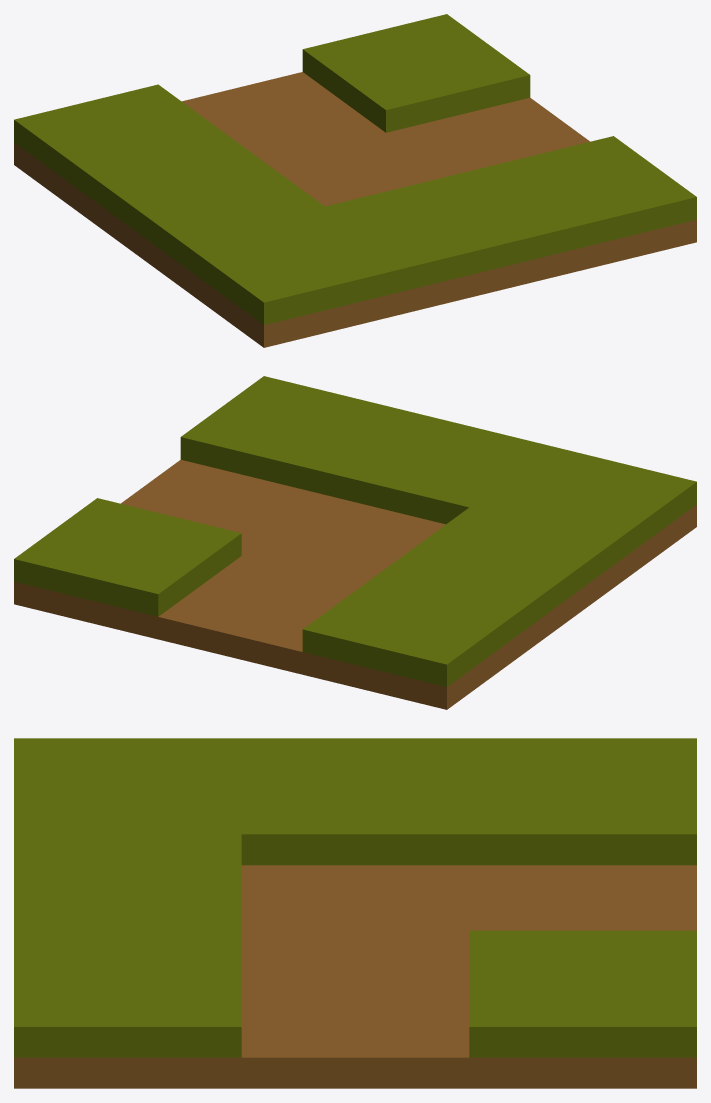
File: ForestCurve.fbx
3 renders of one model, top to bottom at view 1: azimuth 30°, elevation 25°; view 2: azimuth 150°, elevation 25°; view 3: azimuth 270°, elevation 25°, orthographic. The views are drawn at different scales.
Parts seen in each view (by area): view 1: ForestCurve; view 2: ForestCurve; view 3: ForestCurve.
Part boxes in pixels (box(x1,y1,x2,y2)): ForestCurve: box(14, 14, 696, 347); ForestCurve: box(14, 376, 696, 709); ForestCurve: box(14, 738, 696, 1088).
Size of the model in its own units: 100 by 10 by 100.
